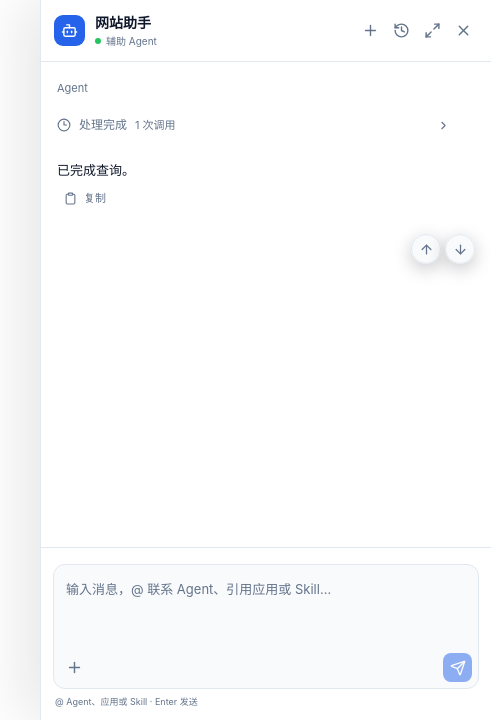
Test case: AgentSidebar › 普通工具记录默认折叠，展开操作后仍不展示原始参数和结果
Expected: the text "搜索素材" is not shown
Click the button with aria-label "执行过程". click: (103,124)
box: left=57, top=103, right=450, bottom=147
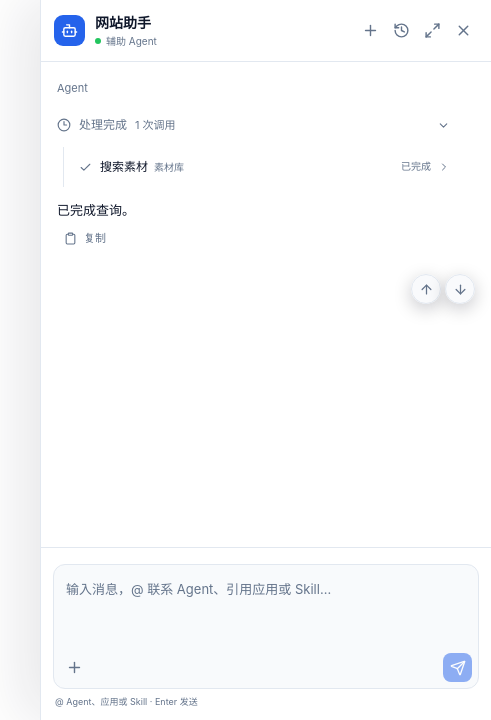
Now the text "素材库" is shown, box left=154, top=160, right=184, bottom=175
Now the text "搜索素材" is shown, box left=100, top=158, right=148, bottom=176
Now the text "已完成" is shown, box left=401, top=159, right=431, bottom=175
